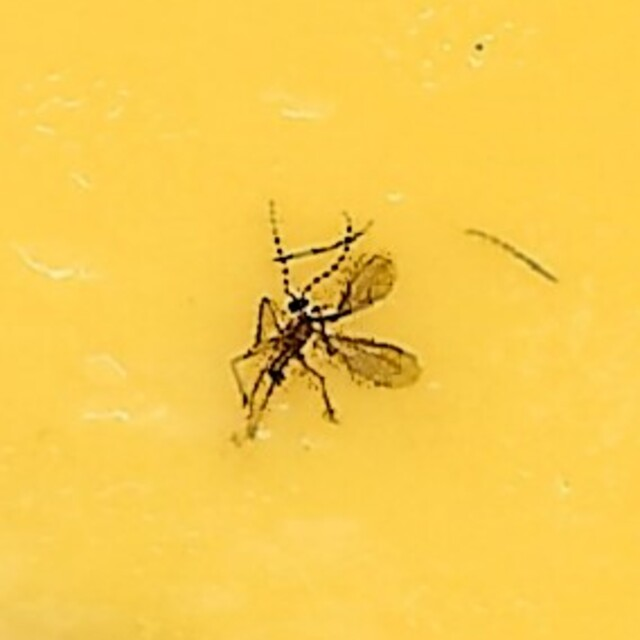Nematocera: (225, 203, 415, 437)
